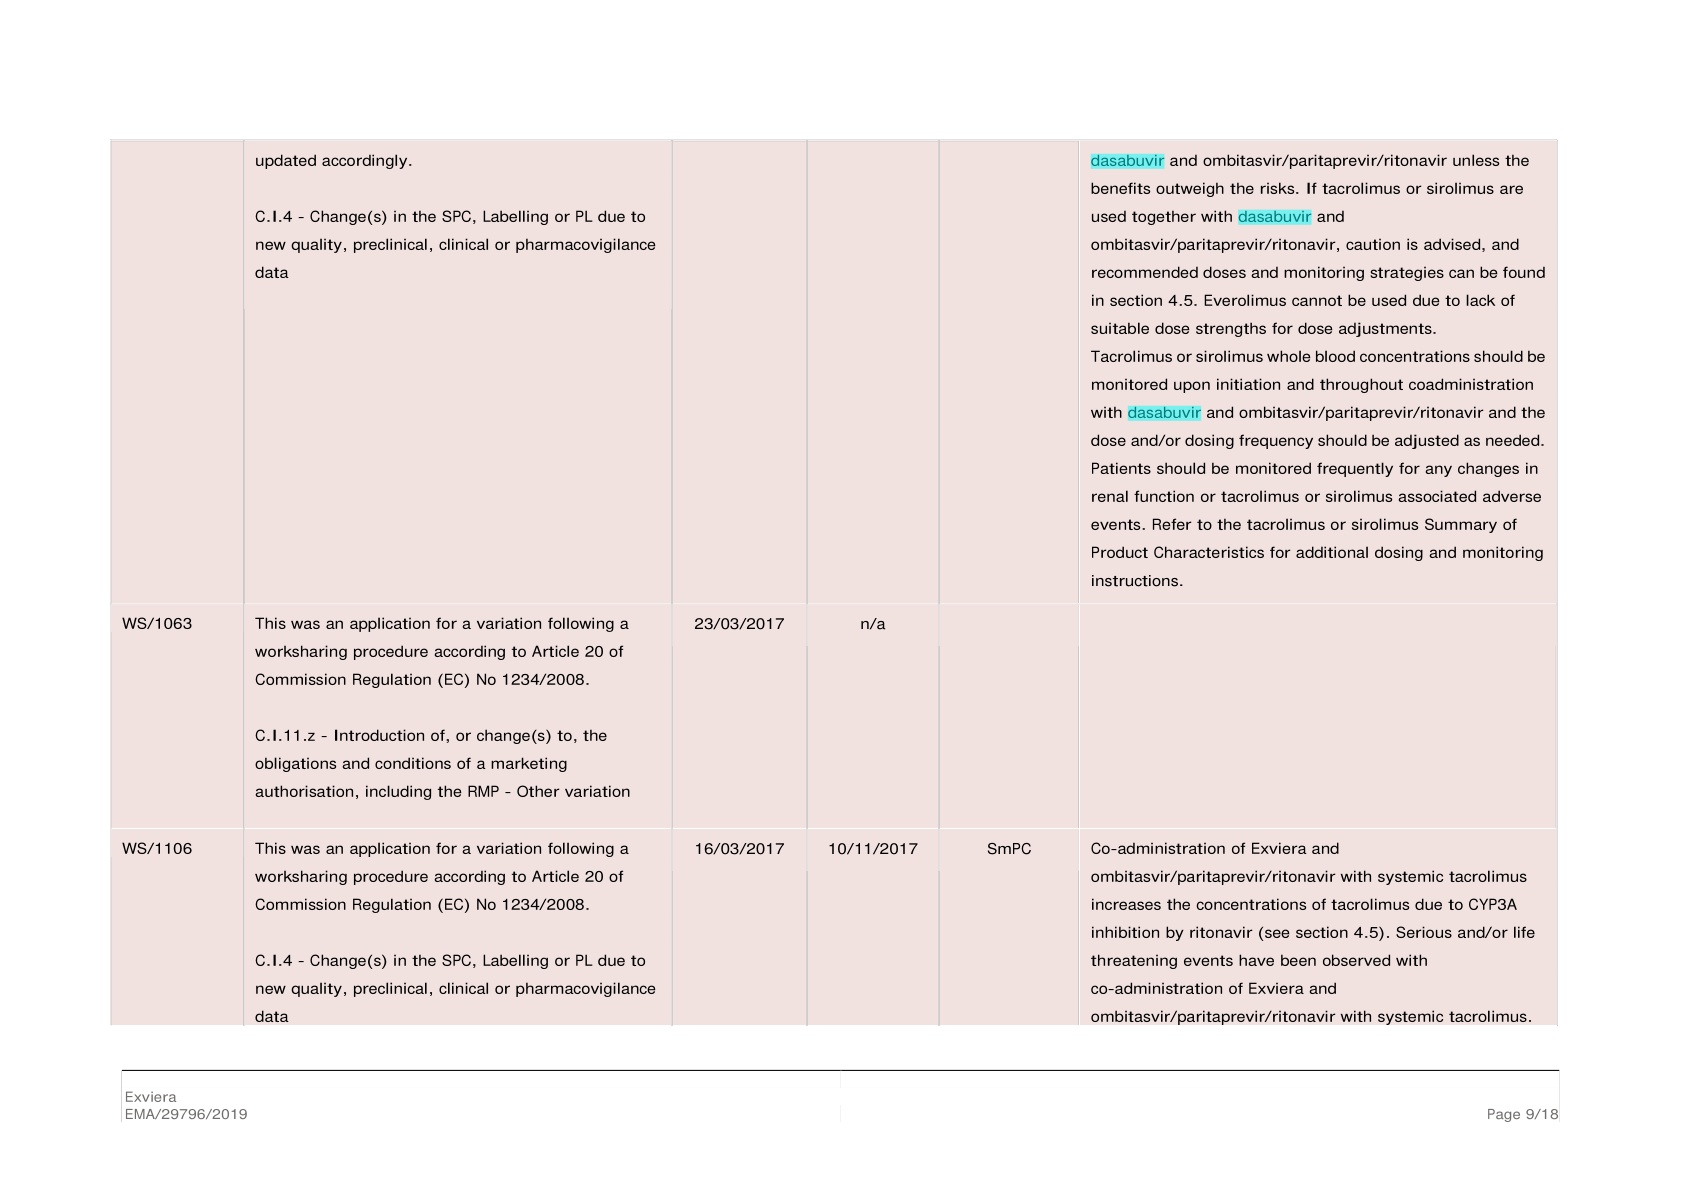partial_lined: (109, 139, 1558, 1026)
